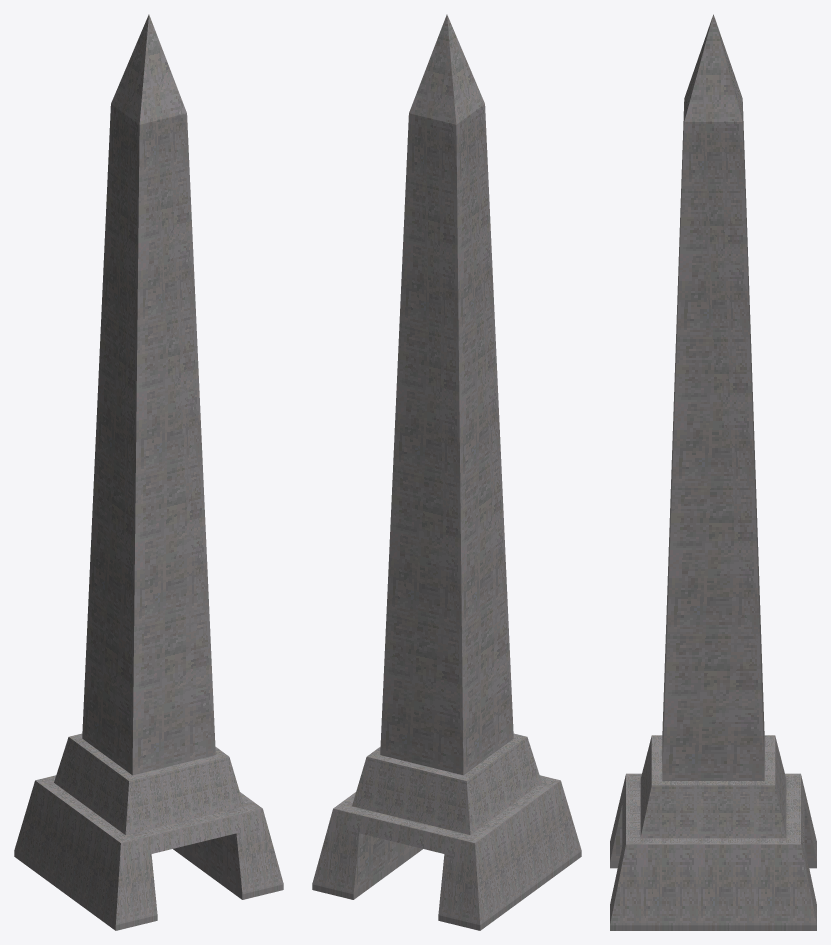
Rendered from lodorpillar01_lvs.obj.
The picture shows the model from 3 angles, left to right: view 1: azimuth 30°, elevation 25°; view 2: azimuth 150°, elevation 25°; view 3: azimuth 270°, elevation 25°; orthographic projection.
Visible parts, largest first — view 1: lodorpillar01_lvs; view 2: lodorpillar01_lvs; view 3: lodorpillar01_lvs.
Part boxes in pixels (x1=…): lodorpillar01_lvs: x1=14, y1=14, x2=283, y2=930; lodorpillar01_lvs: x1=312, y1=14, x2=581, y2=930; lodorpillar01_lvs: x1=610, y1=14, x2=816, y2=930.
Bounding box in the file's own units: 13.93 × 68.05 × 14.59.
Materials: 1 (1 with a texture image).
